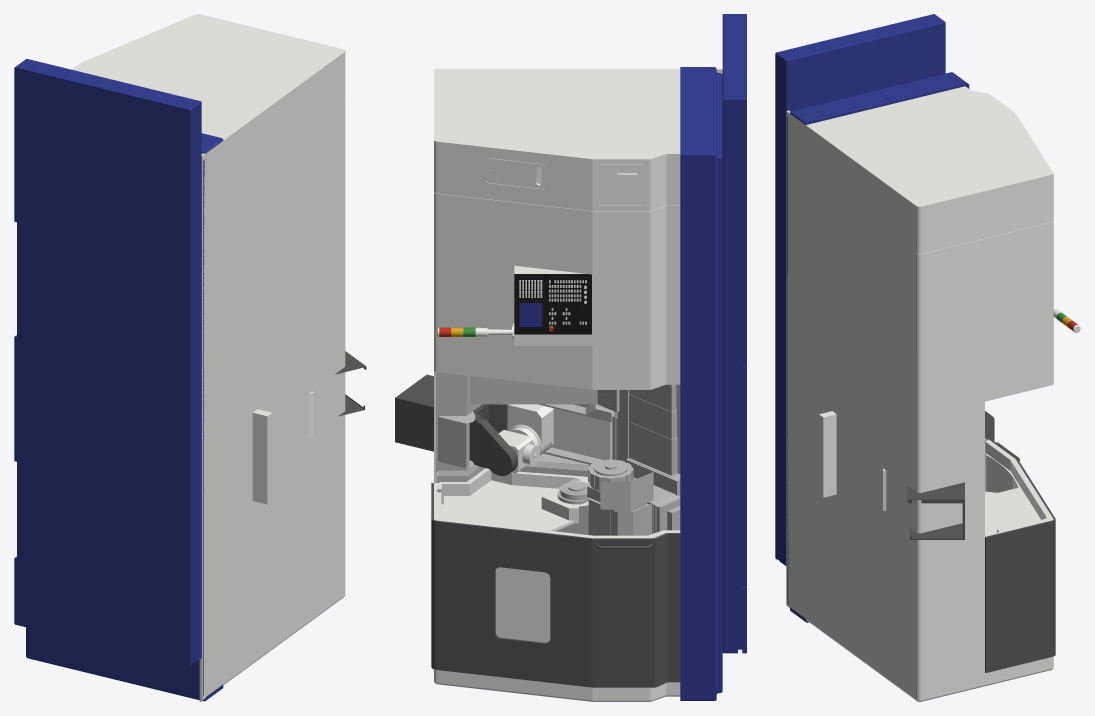
The model's file is baseModel.fbx.
3 views of the same model, side by side, from view 1: azimuth 30°, elevation 25°; view 2: azimuth 150°, elevation 25°; view 3: azimuth 270°, elevation 25° (orthographic). The views are drawn at different scales.
Visible parts, largest first — view 1: ボディ2, ボディ1 (×4); view 2: ボディ1 (×15), ボディ2 (×3), ボディ4 (×2), ボディ9 (×2), ボディ3 (×2), ボディ10, ボディ8, ボディ7, ボディ11; view 3: ボディ1 (×6), ボディ2 (×2).
Boxes of the visible parts, bbox=[...] form: ボディ2: bbox=[14, 59, 201, 666]; ボディ1 (×4): bbox=[26, 14, 366, 701]; ボディ1 (×15): bbox=[395, 67, 722, 701]; ボディ2 (×3): bbox=[435, 14, 746, 653]; ボディ4 (×2): bbox=[436, 372, 649, 535]; ボディ9 (×2): bbox=[438, 411, 610, 535]; ボディ3 (×2): bbox=[476, 404, 680, 530]; ボディ10: bbox=[600, 472, 653, 511]; ボディ8: bbox=[629, 394, 676, 439]; ボディ7: bbox=[629, 384, 676, 411]; ボディ11: bbox=[436, 398, 611, 417]; ボディ1 (×6): bbox=[786, 72, 1055, 701]; ボディ2 (×2): bbox=[775, 14, 1050, 565].
Size of the model in its own units: 127 by 217 by 109.
